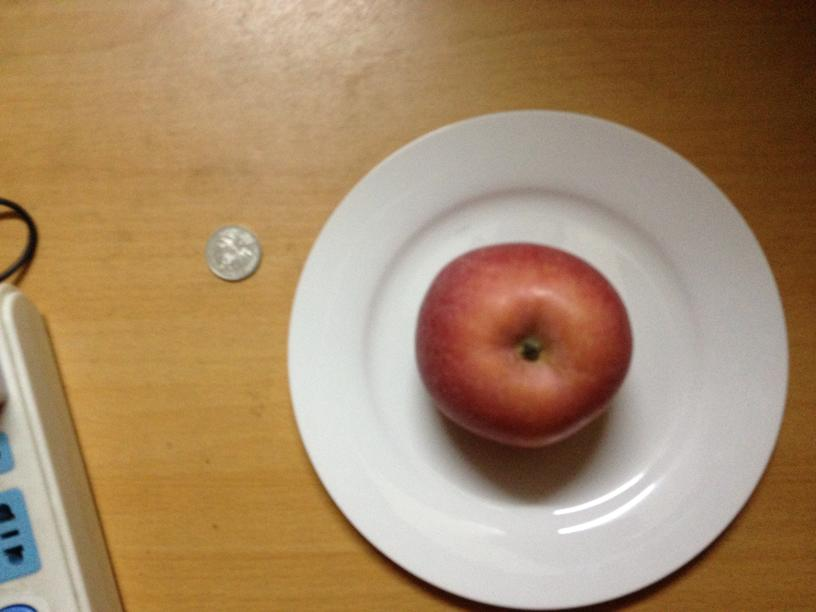apple: (417, 244, 631, 445)
coin: (207, 225, 260, 282)
